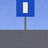sign: (16, 0, 34, 35)
